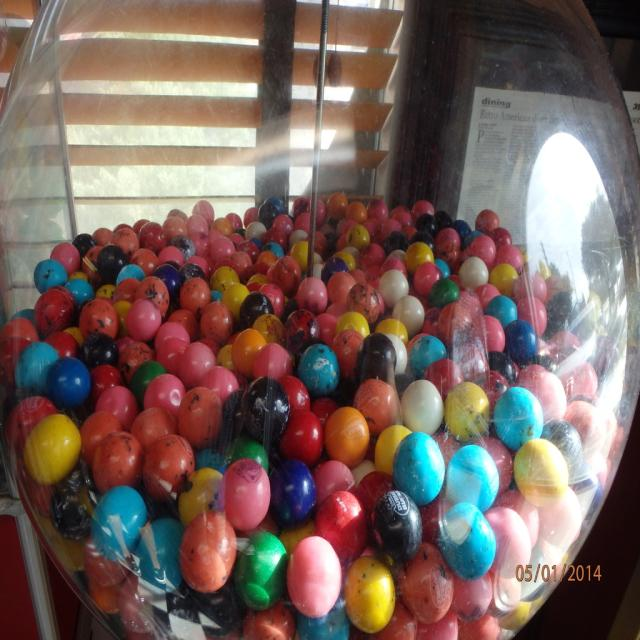Ball: (0, 192, 637, 640)
